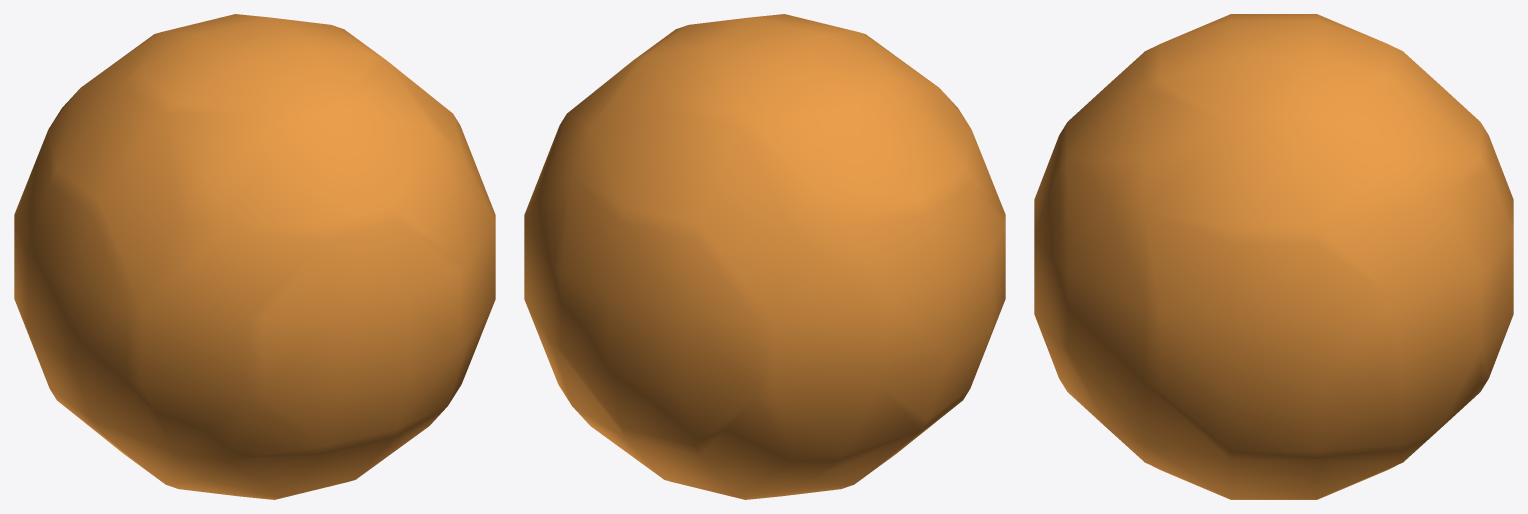
File: pea_proj.fbx
3 renders of one model, left to right at view 1: azimuth 30°, elevation 25°; view 2: azimuth 150°, elevation 25°; view 3: azimuth 270°, elevation 25°, orthographic.
Parts seen in each view (by area): view 1: Mball; view 2: Mball; view 3: Mball.
Boxes of the visible parts, <box> form: Mball: <box>14,14,495,499</box>; Mball: <box>524,14,1005,499</box>; Mball: <box>1034,14,1513,499</box>.
Size of the model in its own units: 223 by 223 by 223.
